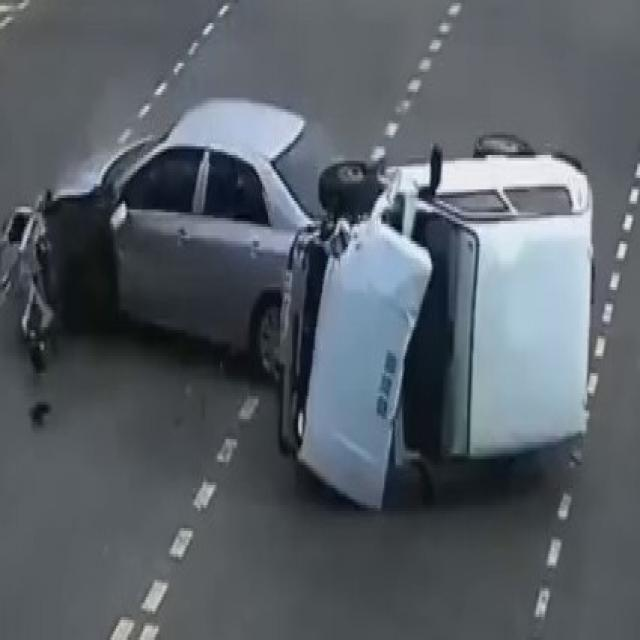accident: (20, 84, 602, 555), (283, 156, 613, 516)
